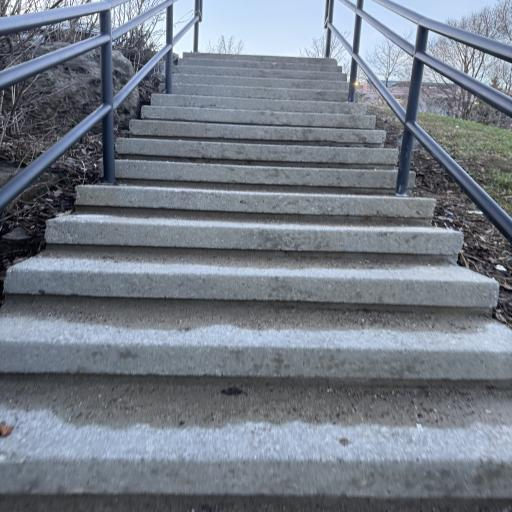Stairs: (0, 54, 512, 510)
